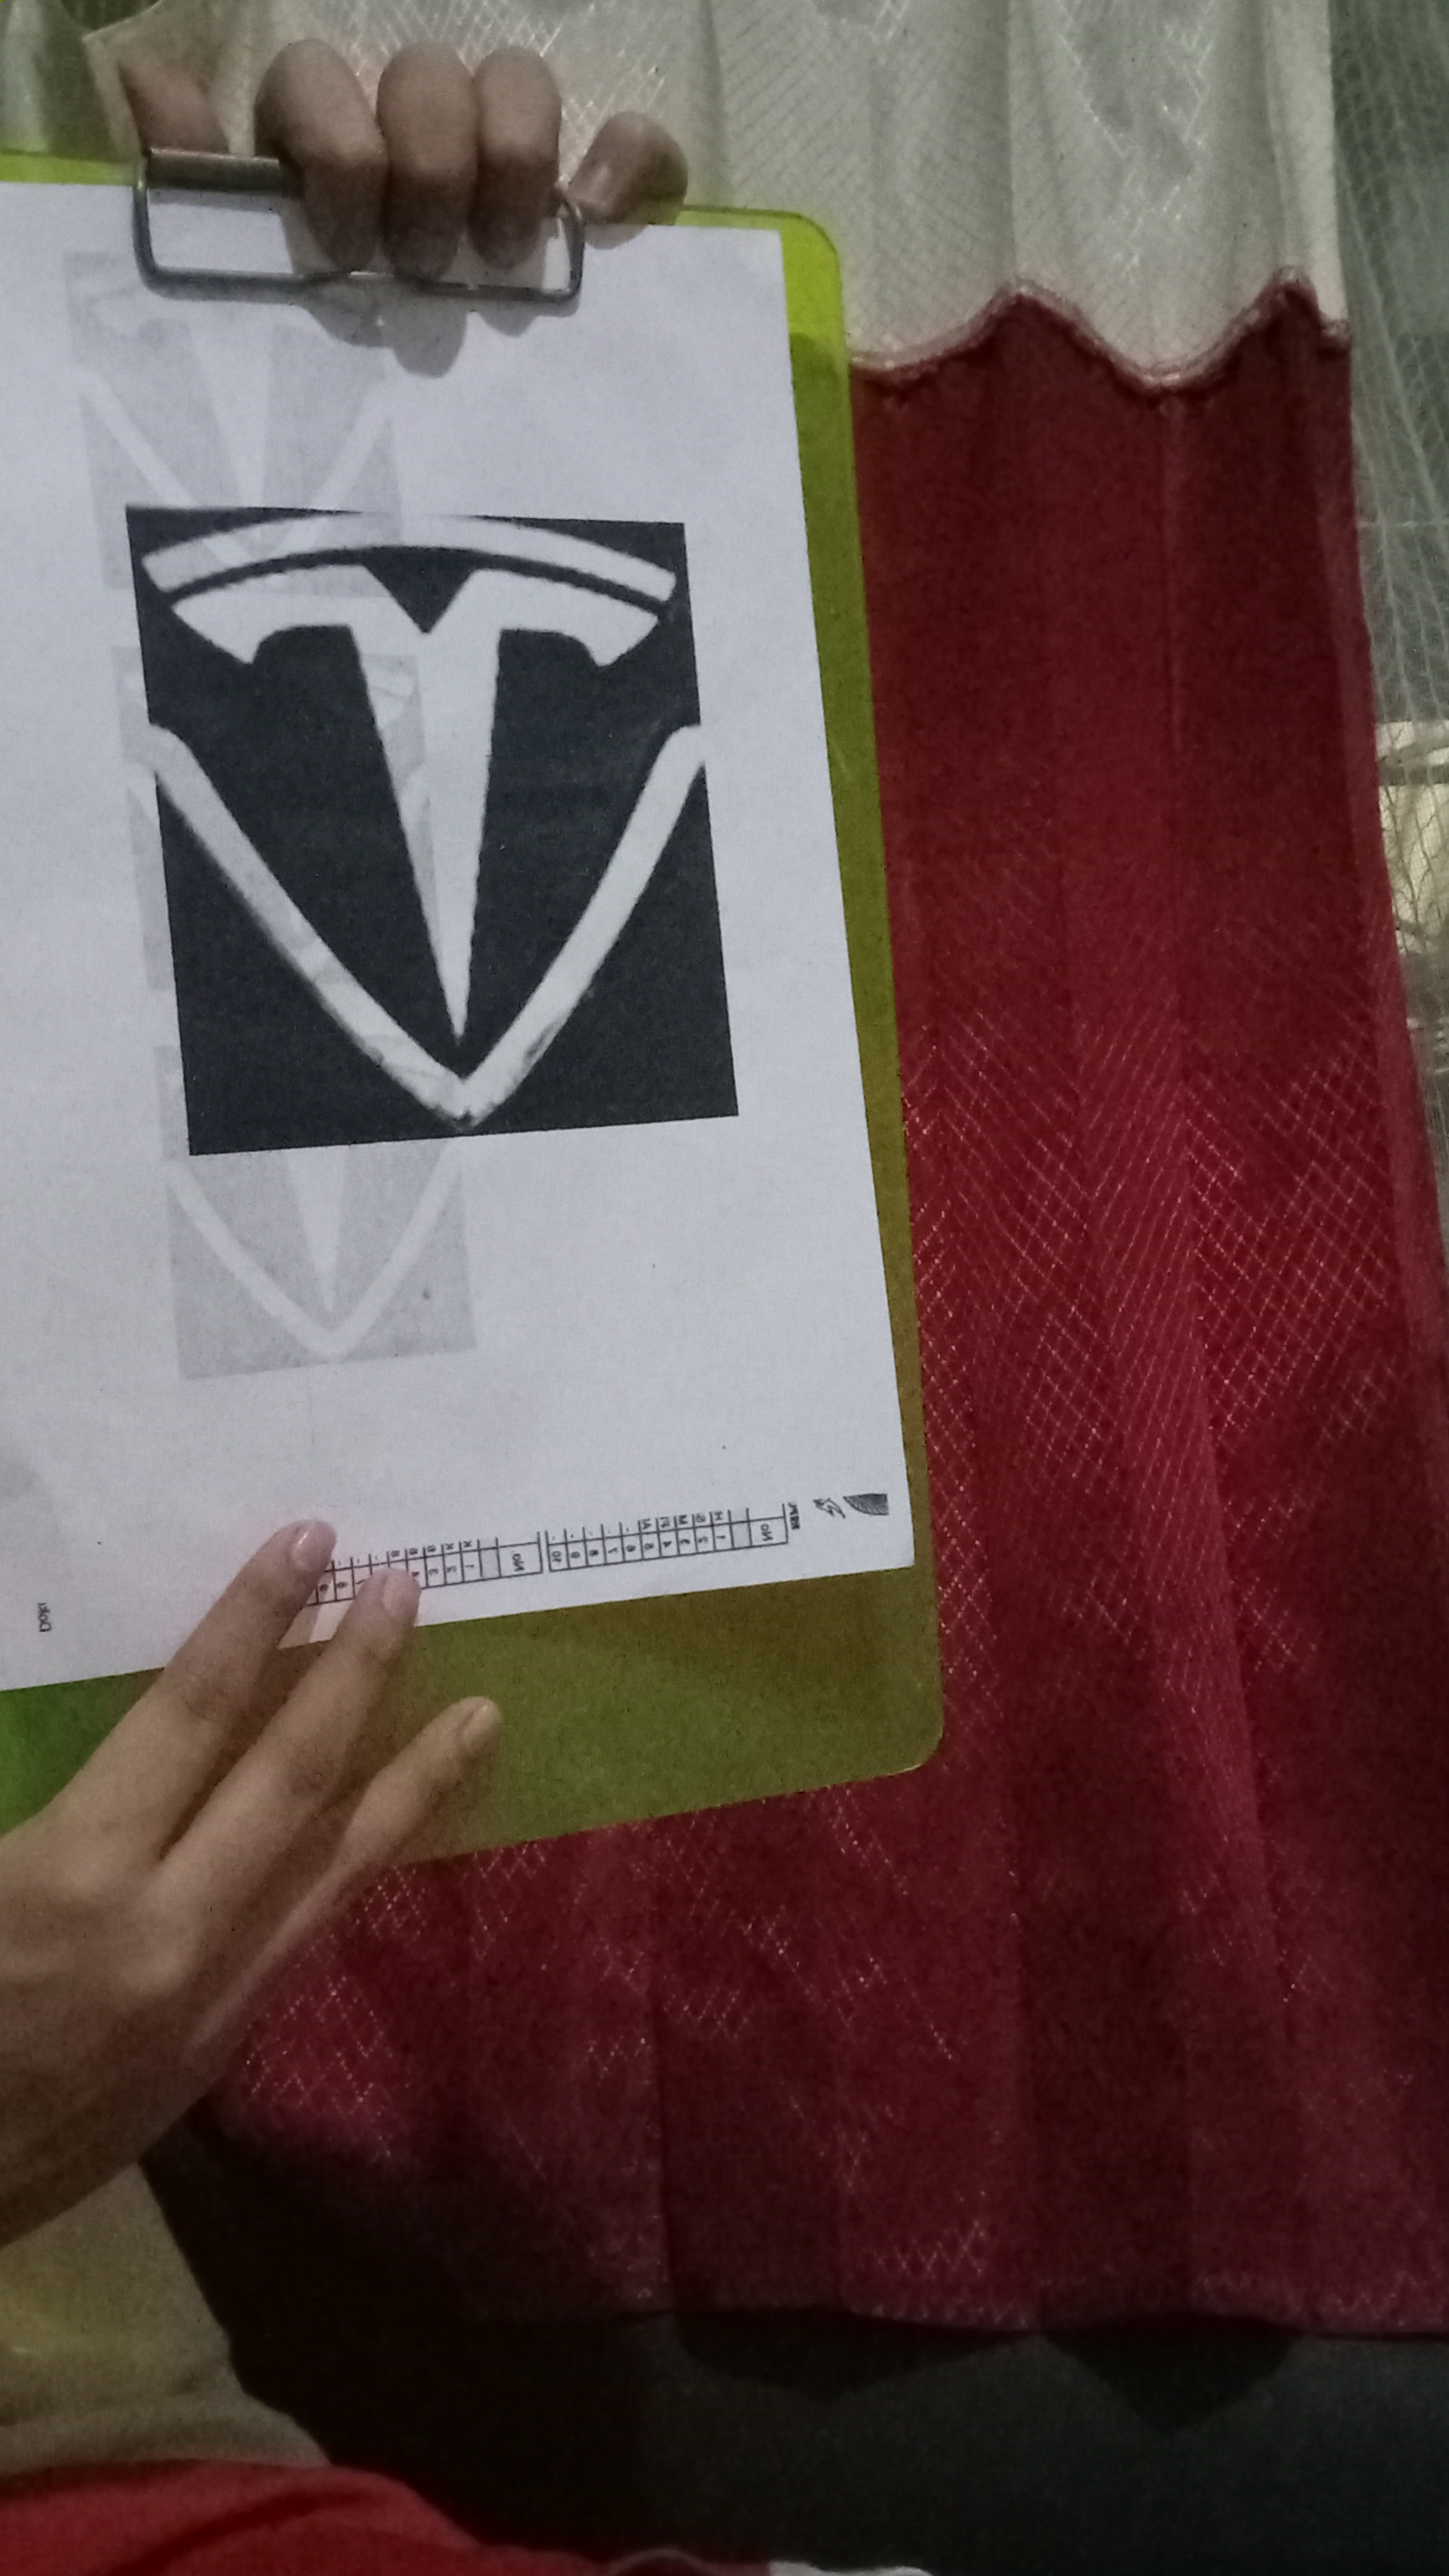Tesla: (117, 502, 725, 1143)
